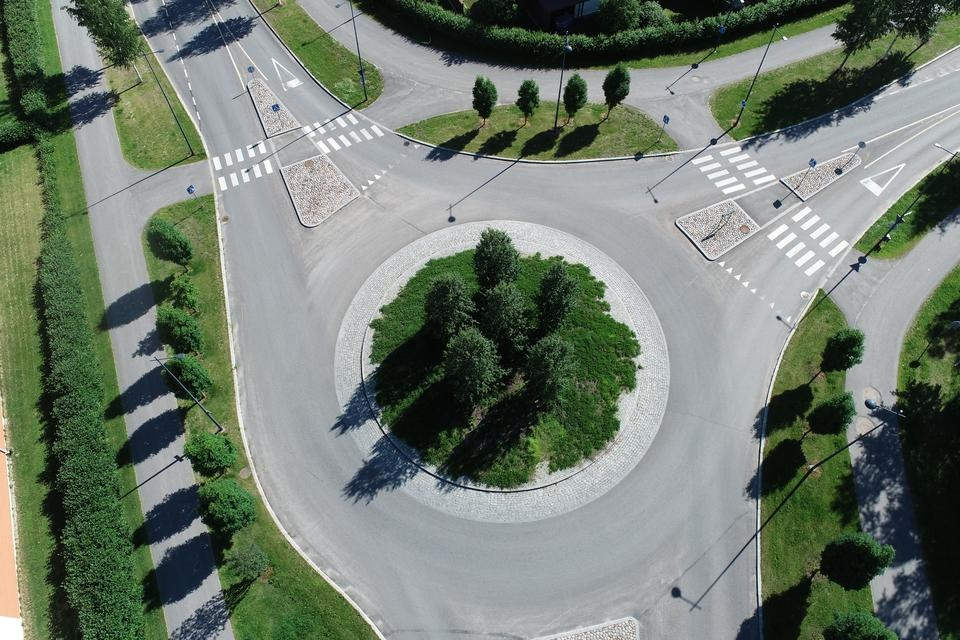roundabout: (214, 126, 792, 619)
